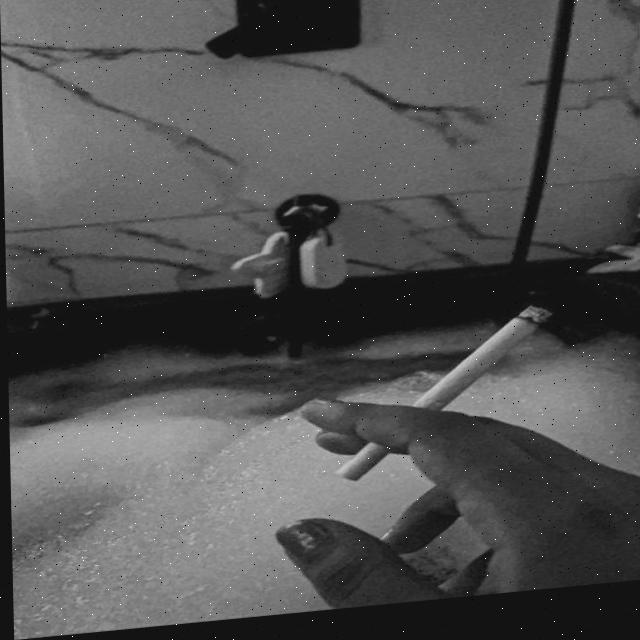cigarette: (334, 314, 549, 491)
